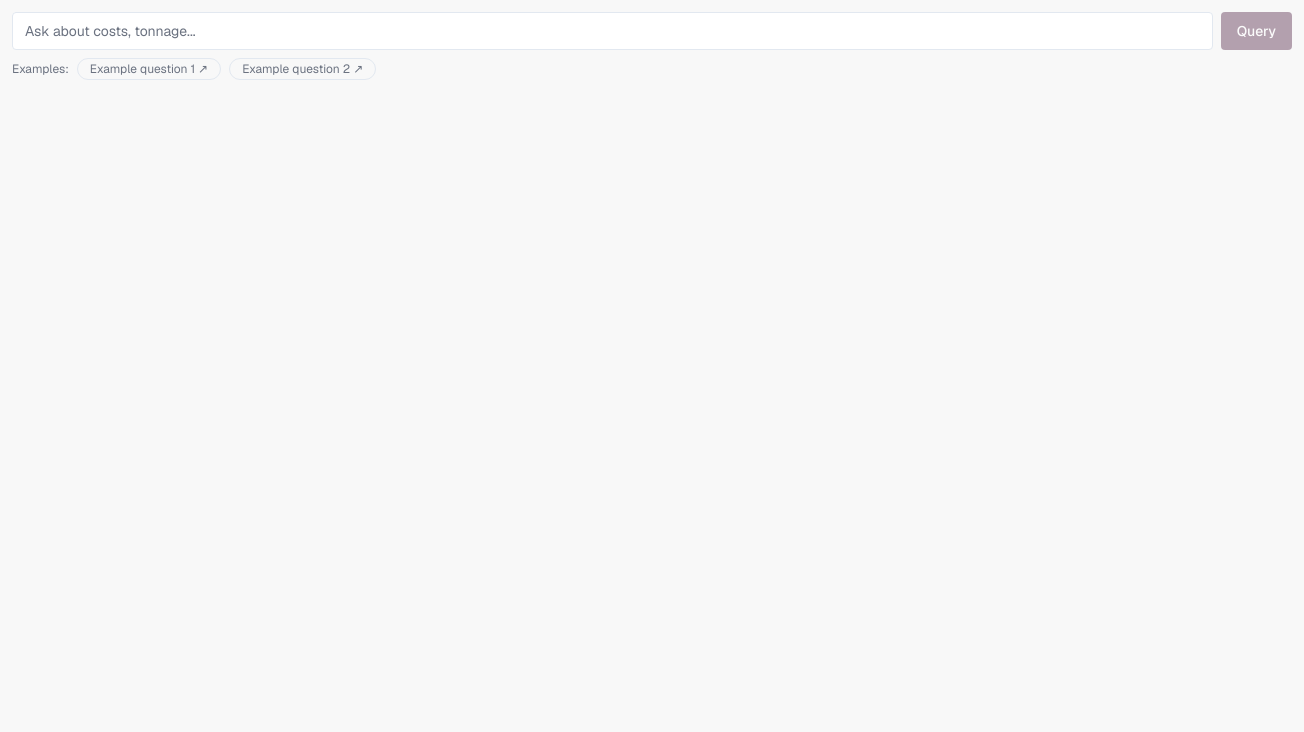
Test case: QueryPanel › renders data table after successful fetch with rows
This screenshot has width=1304, height=732.
Type "costo por tonelada" into the field with placeholder "Ask about costs, tonnage..." at (612, 31), box [12,12,1213,50]
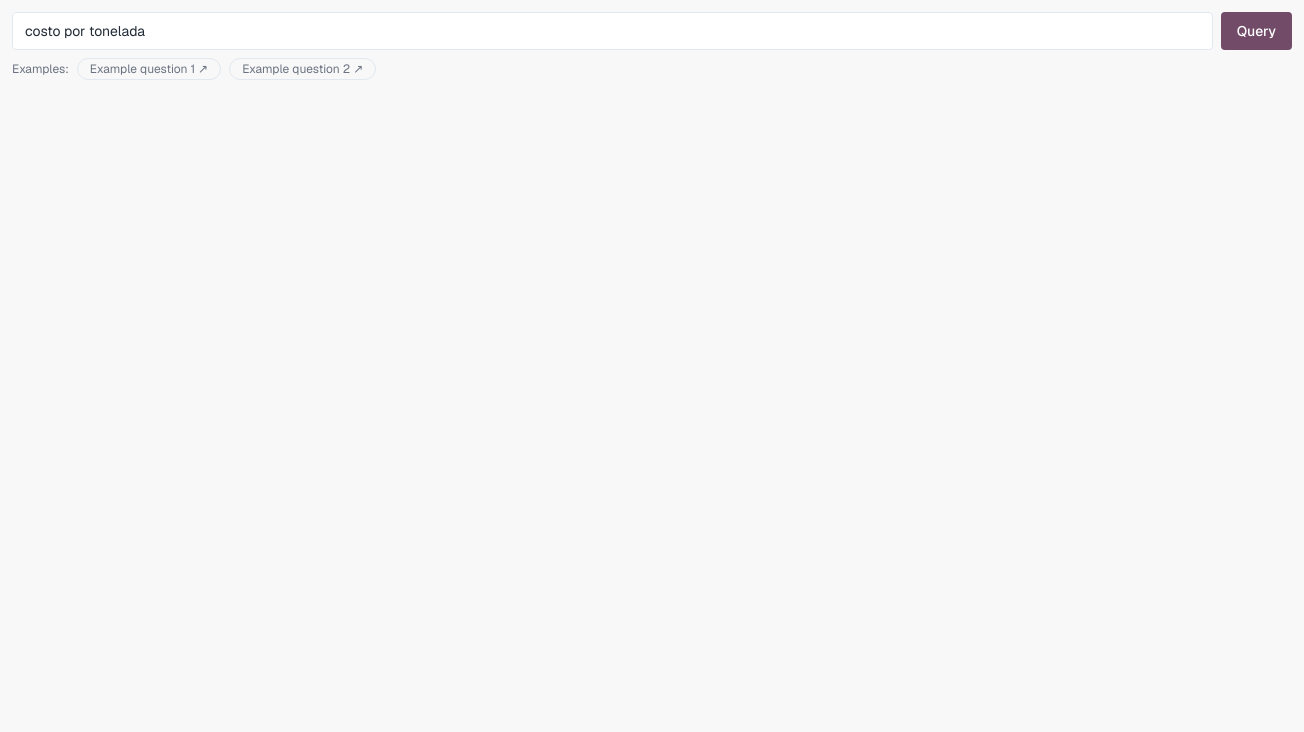
Click the button "Query" at (1256, 31), box [1221,12,1292,50]
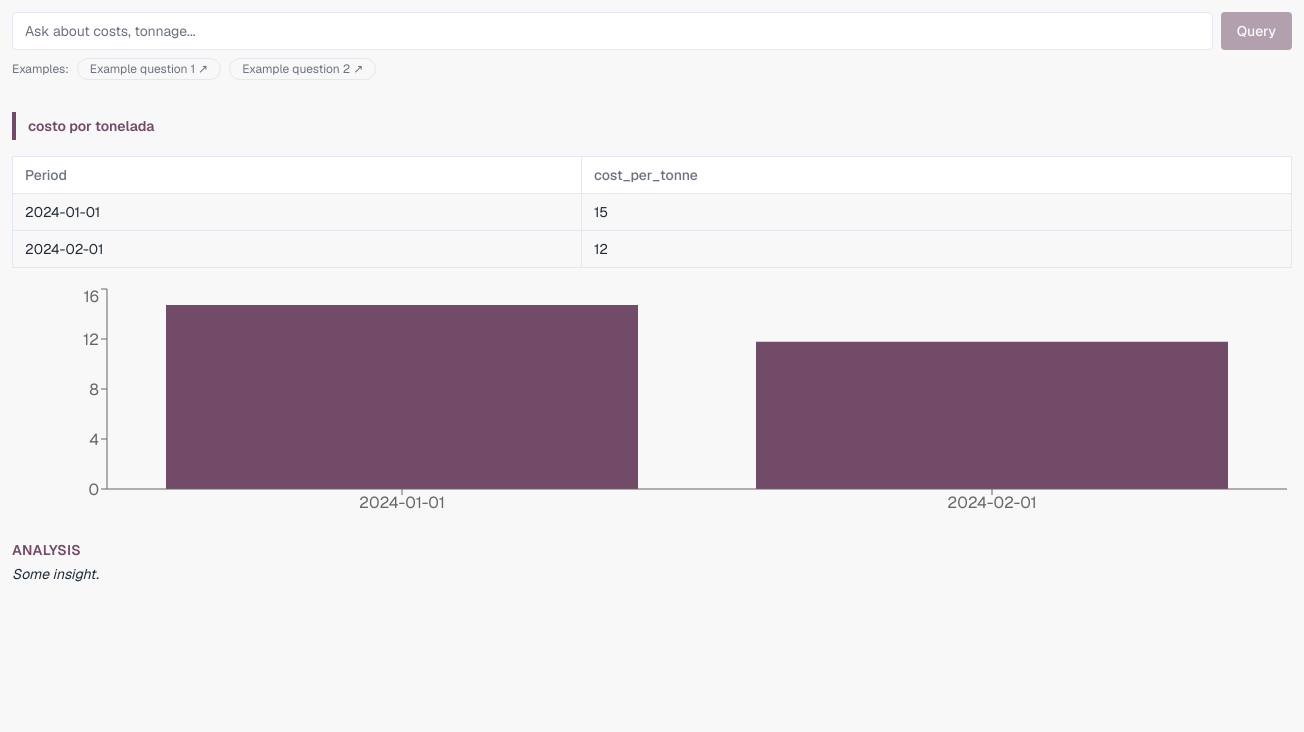
Check: the column heading "Period" is shown, box [12,156,581,194]
Check: the column heading "cost_per_tonne" is shown, box [581,156,1292,194]
Check: the text "2024-01-01" is shown, box [12,194,581,230]
